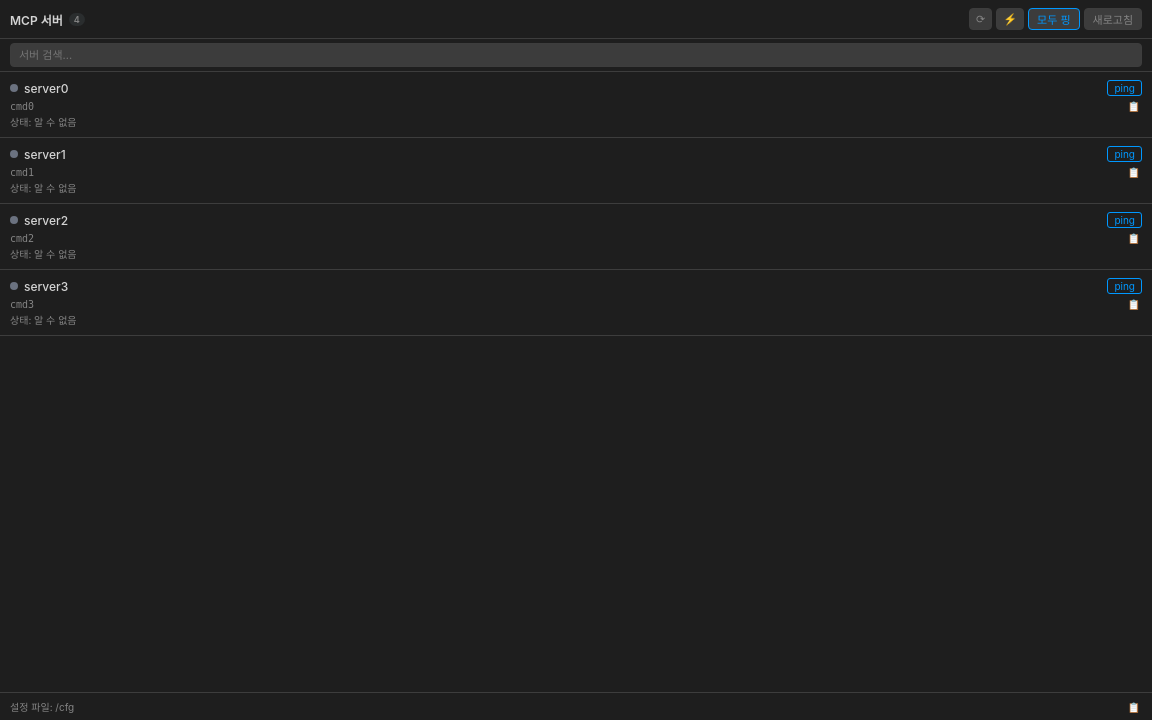
ConnectionPanel › 서버 검색 입력 시 일치하는 서버만 표시된다
The width and height of the screenshot is (1152, 720).
Check: the text "server0" is shown, box [24,80,68,96]
Type "server1" into the field with placeholder "서버 검색..." at coordinates (576, 55), box [10,43,1142,67]
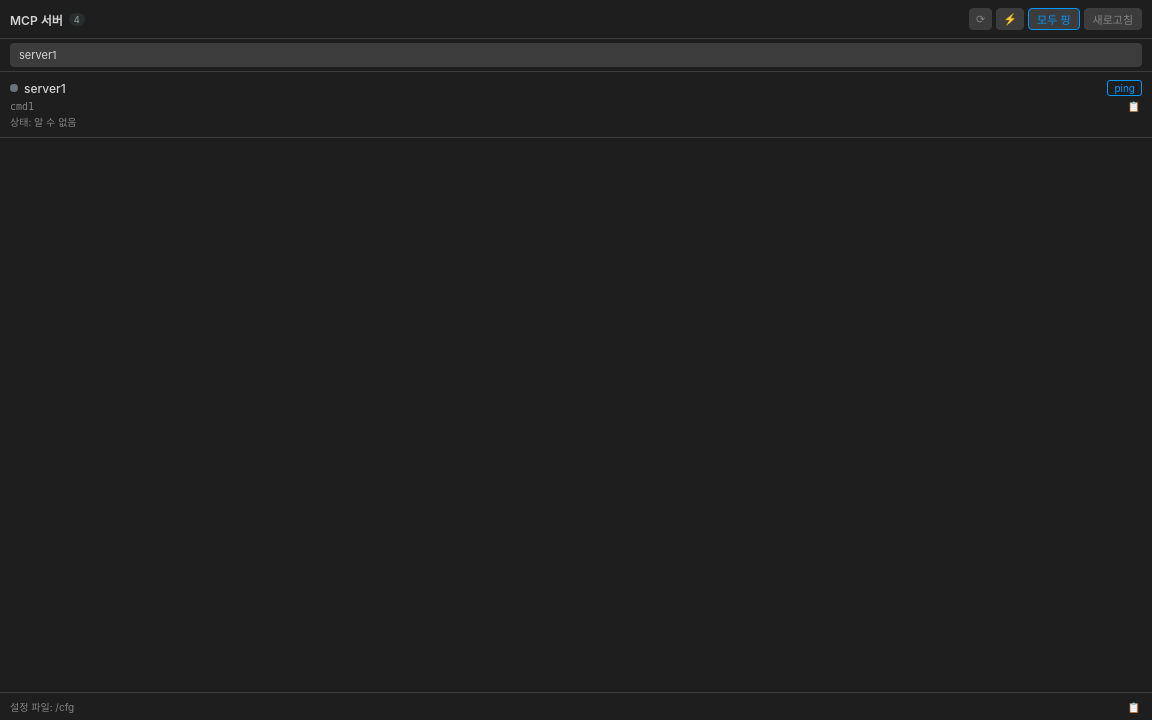
Check: the text "server1" is shown, box [24,80,66,96]
Check: the text "server0" is gone
